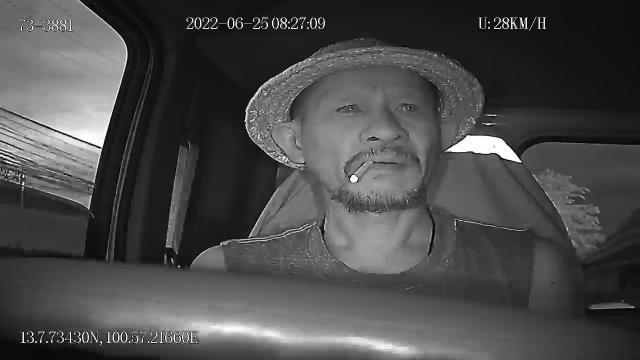SafeDriving: (329, 93, 369, 122), (388, 93, 425, 119)
Smoking: (349, 159, 373, 183)
